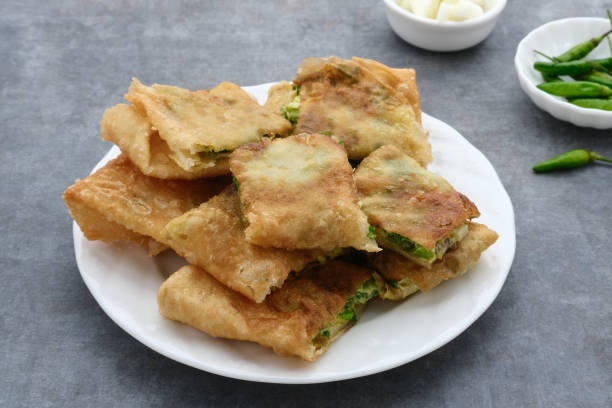martabak: (60, 55, 501, 362)
